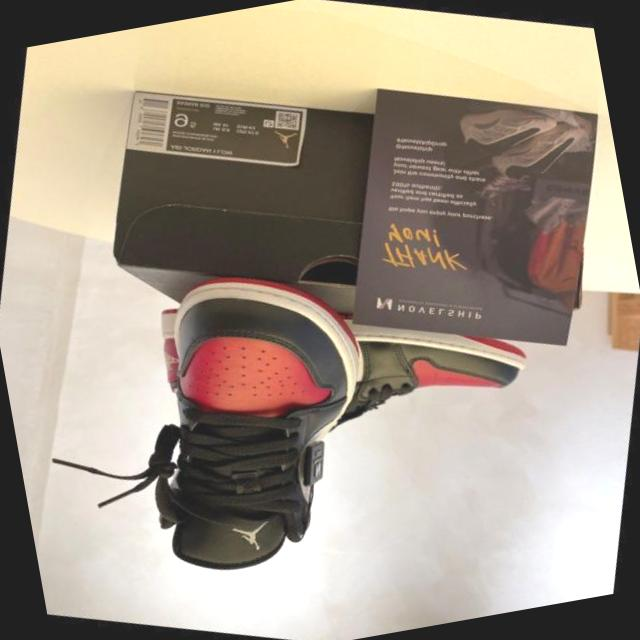nike_original_jordan: (86, 235, 429, 624), (132, 230, 558, 506)
